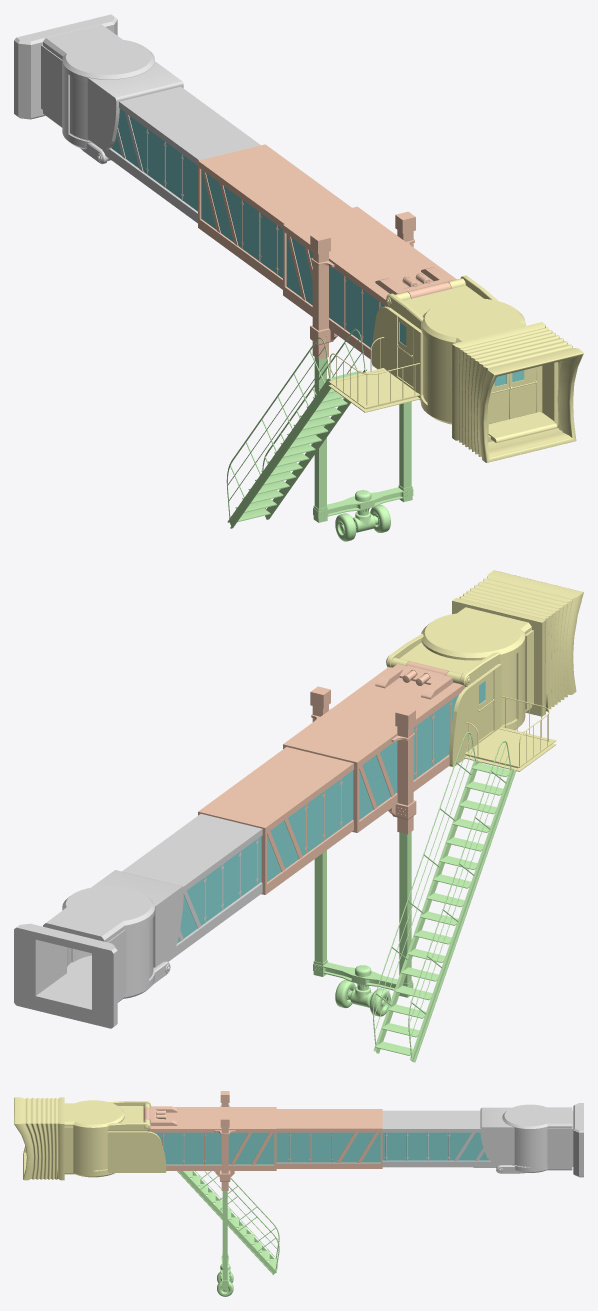
Rendered from Boarding_Sleeve.fbx.
3 renders of one model, top to bottom at view 1: azimuth 30°, elevation 25°; view 2: azimuth 150°, elevation 25°; view 3: azimuth 270°, elevation 25°, orthographic. The views are drawn at different scales.
Parts seen in each view (by area): view 1: Hinge_2_2, Sleeve_3, Sleeve_2, Sleeve_1, Sleeve_base, Ladder, Hinge_2_1, Hinge_1, Support, Door_2_2, Skirt_1, Door_1 (+2 smaller); view 2: Sleeve_3, Sleeve_base, Hinge_2_2, Sleeve_2, Ladder, Sleeve_1, Hinge_2_1, Support, Hinge_1, Skirt_2, Door_1, Wheels; view 3: Sleeve_3, Hinge_2_2, Sleeve_2, Sleeve_1, Sleeve_base, Hinge_2_1, Ladder, Hinge_1, Support, Skirt_1, Skirt_2.
Part boxes in pixels (bbox=[...]): Hinge_2_2: bbox=[420, 298, 583, 462]; Sleeve_3: bbox=[283, 206, 456, 359]; Sleeve_2: bbox=[198, 144, 351, 289]; Sleeve_1: bbox=[102, 86, 260, 223]; Sleeve_base: bbox=[14, 14, 154, 149]; Ladder: bbox=[226, 328, 367, 528]; Hinge_2_1: bbox=[328, 275, 497, 412]; Hinge_1: bbox=[70, 61, 183, 164]; Support: bbox=[313, 357, 413, 522]; Door_2_2: bbox=[509, 367, 536, 418]; Skirt_1: bbox=[70, 75, 90, 141]; Door_1: bbox=[396, 317, 413, 386]; Sleeve_3: bbox=[283, 661, 465, 834]; Sleeve_base: bbox=[14, 886, 154, 1028]; Hinge_2_2: bbox=[421, 570, 583, 730]; Sleeve_2: bbox=[198, 747, 353, 894]; Ladder: bbox=[372, 732, 516, 1062]; Sleeve_1: bbox=[122, 814, 262, 961]; Hinge_2_1: bbox=[386, 633, 556, 771]; Support: bbox=[313, 832, 413, 997]; Hinge_1: bbox=[67, 870, 183, 984]; Skirt_2: bbox=[498, 653, 516, 725]; Door_1: bbox=[478, 671, 494, 740]; Wheels: bbox=[335, 980, 390, 1016]; Sleeve_3: bbox=[143, 1091, 276, 1190]; Hinge_2_2: bbox=[14, 1097, 124, 1180]; Sleeve_2: bbox=[276, 1109, 382, 1168]; Sleeve_1: bbox=[382, 1110, 499, 1167]; Sleeve_base: bbox=[502, 1103, 583, 1177]; Hinge_2_1: bbox=[107, 1101, 166, 1172]; Ladder: bbox=[177, 1171, 279, 1274]; Hinge_1: bbox=[480, 1107, 525, 1173]; Support: bbox=[220, 1191, 230, 1288]; Skirt_1: bbox=[513, 1130, 530, 1167]; Skirt_2: bbox=[93, 1129, 108, 1170].
Bounding box in the file's own units: 481 × 979 × 2726.
